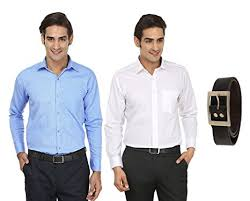F_belt: (21, 144, 92, 169), (123, 141, 182, 163)
F_shirt: (6, 60, 103, 170), (105, 52, 195, 167)
